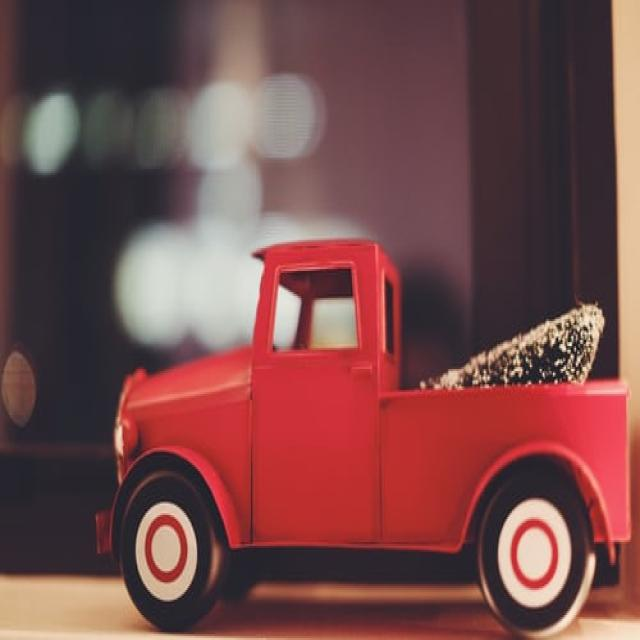Car: (93, 236, 632, 638)
